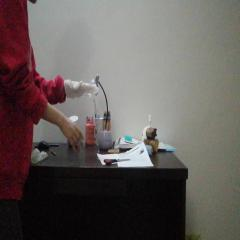gloved: (65, 80, 98, 98)
not-gloved: (58, 114, 84, 152)
